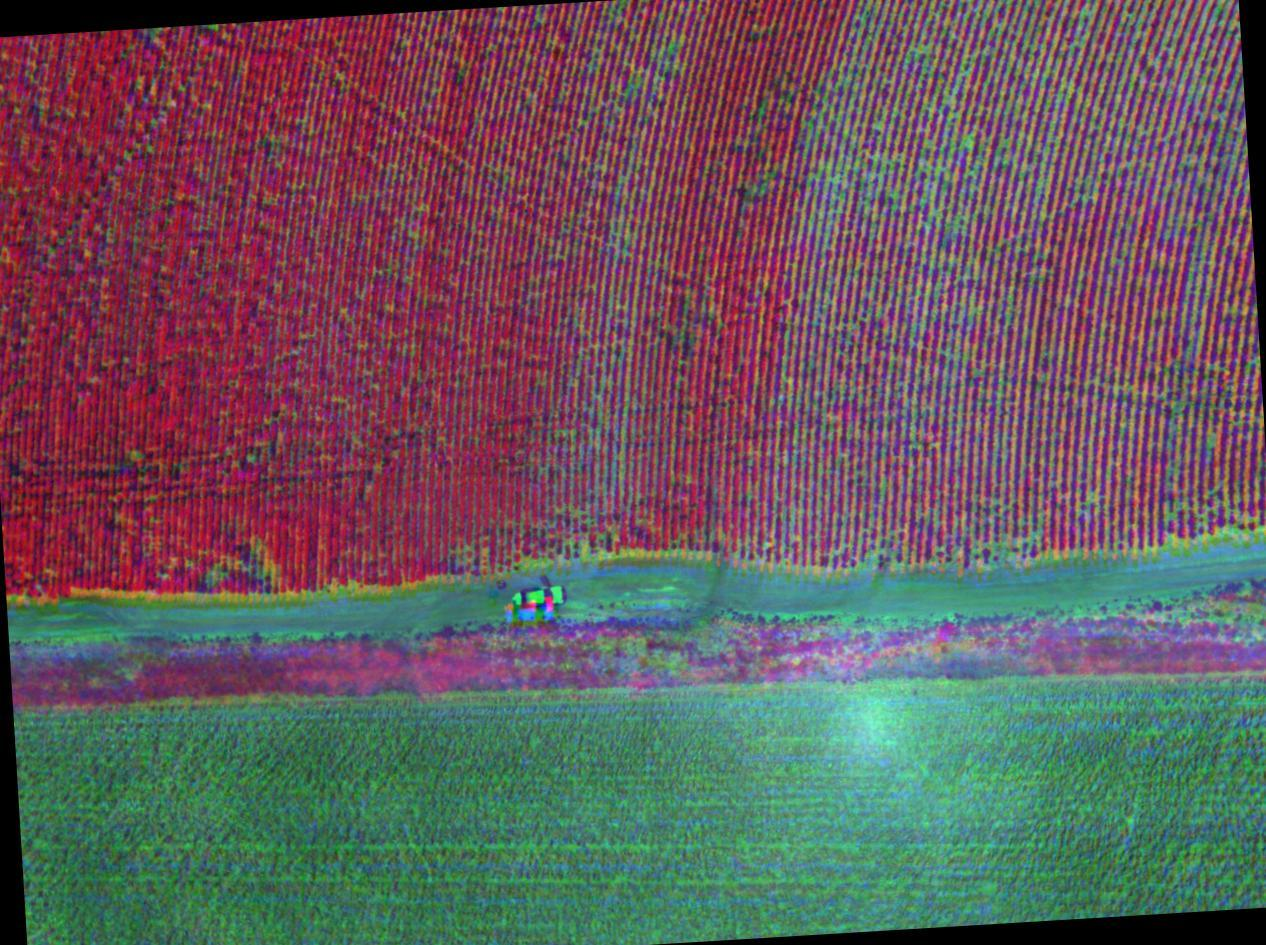dc: (1086, 65, 1172, 194), (916, 150, 1000, 263), (971, 30, 1055, 141), (868, 18, 942, 137), (806, 143, 872, 234)
